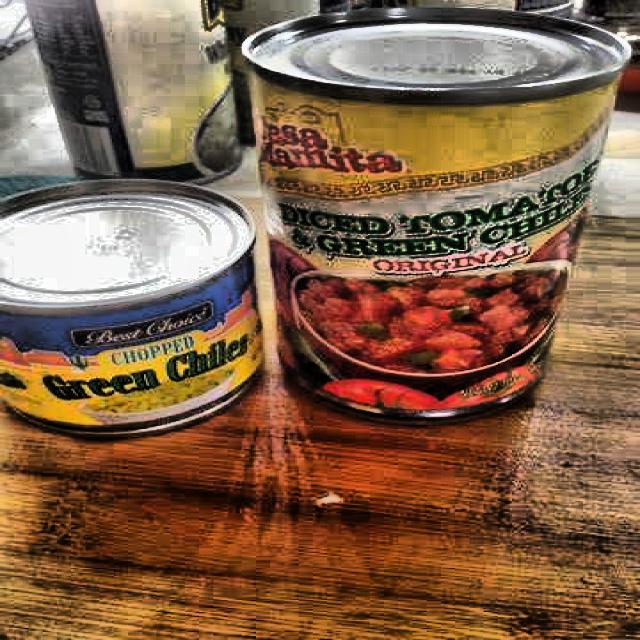Cans: (233, 0, 640, 434), (0, 150, 281, 450)
